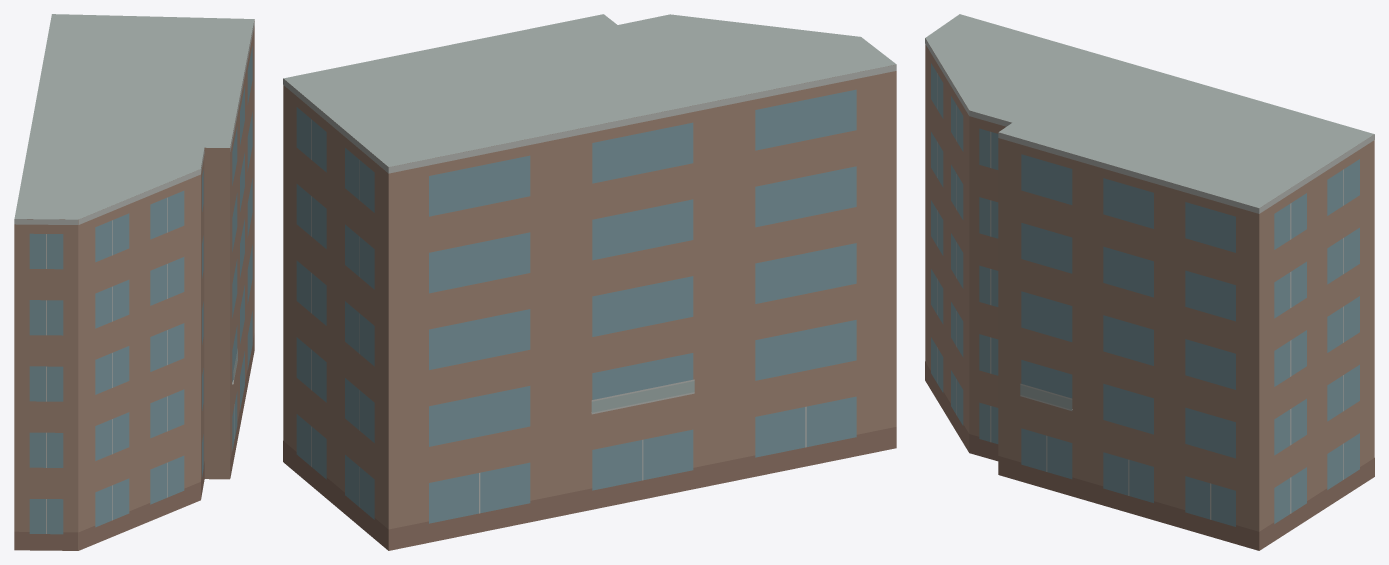
The model's file is survey-upis-32915404.glb.
3 views of the same model, side by side, from view 1: azimuth 30°, elevation 25°; view 2: azimuth 150°, elevation 25°; view 3: azimuth 270°, elevation 25° (orthographic). The views are drawn at different scales.
Visible parts, largest first — view 1: survey-upis-32915404.tmp; view 2: survey-upis-32915404.tmp; view 3: survey-upis-32915404.tmp.
Boxes of the visible parts, bbox=[...] form: survey-upis-32915404.tmp: bbox=[14, 14, 254, 550]; survey-upis-32915404.tmp: bbox=[283, 14, 896, 550]; survey-upis-32915404.tmp: bbox=[925, 14, 1374, 550].
Bounding box in the file's own units: 17.76 × 14.6 × 17.37.
